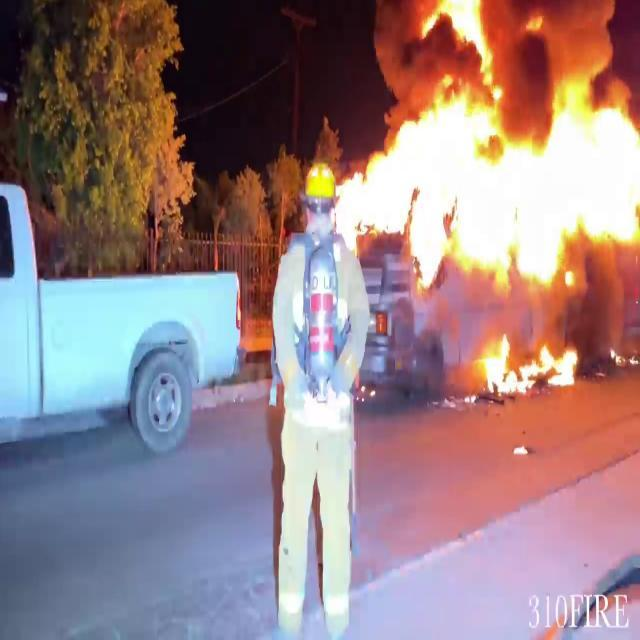Fire: (313, 0, 640, 292), (468, 331, 582, 394)
